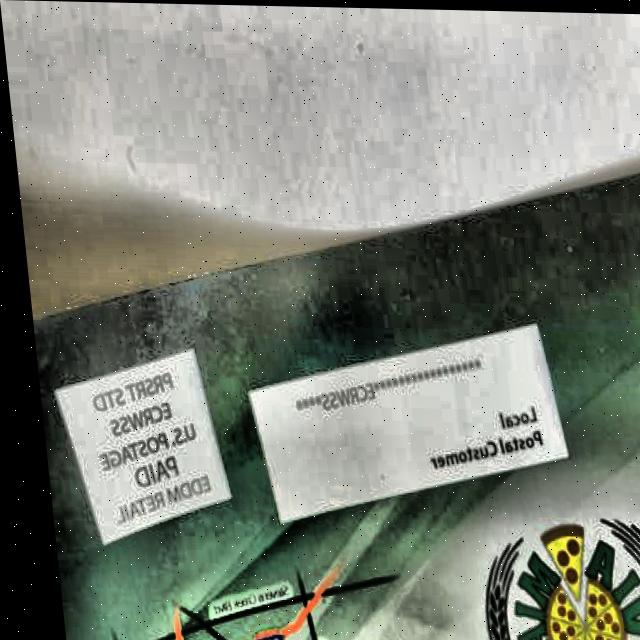paper: (16, 153, 640, 640)
